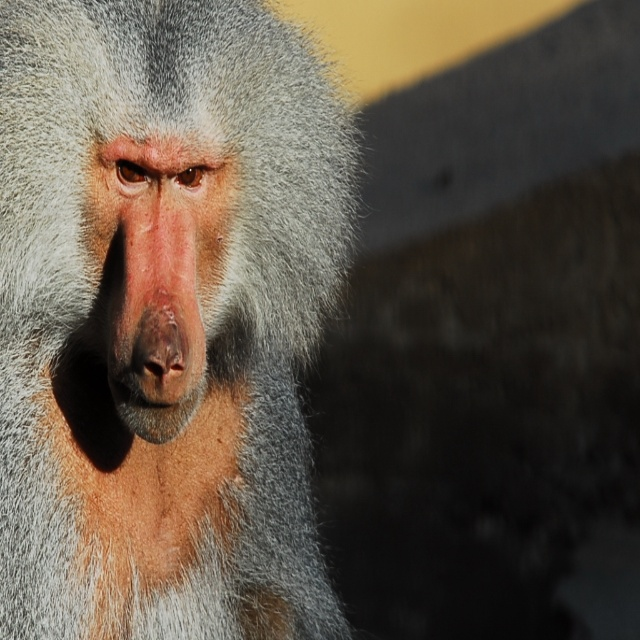Monkey: (0, 0, 381, 639)
